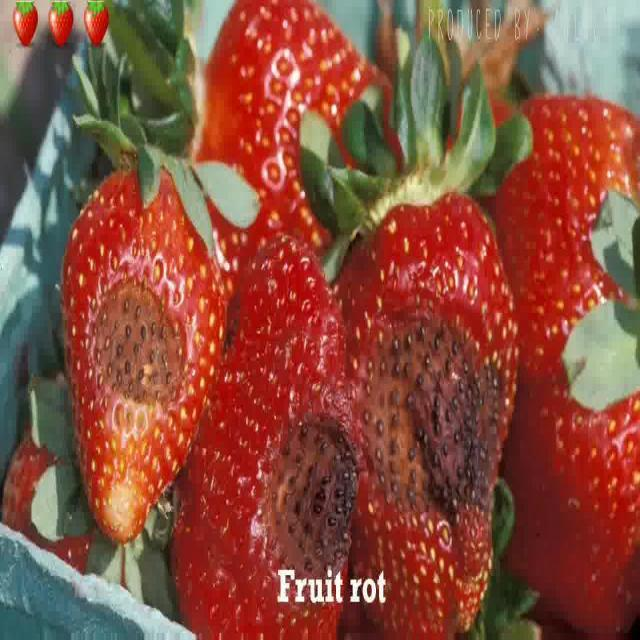Mancha negra Antracnosis: (356, 162, 518, 630), (215, 212, 361, 638), (59, 126, 216, 512)
